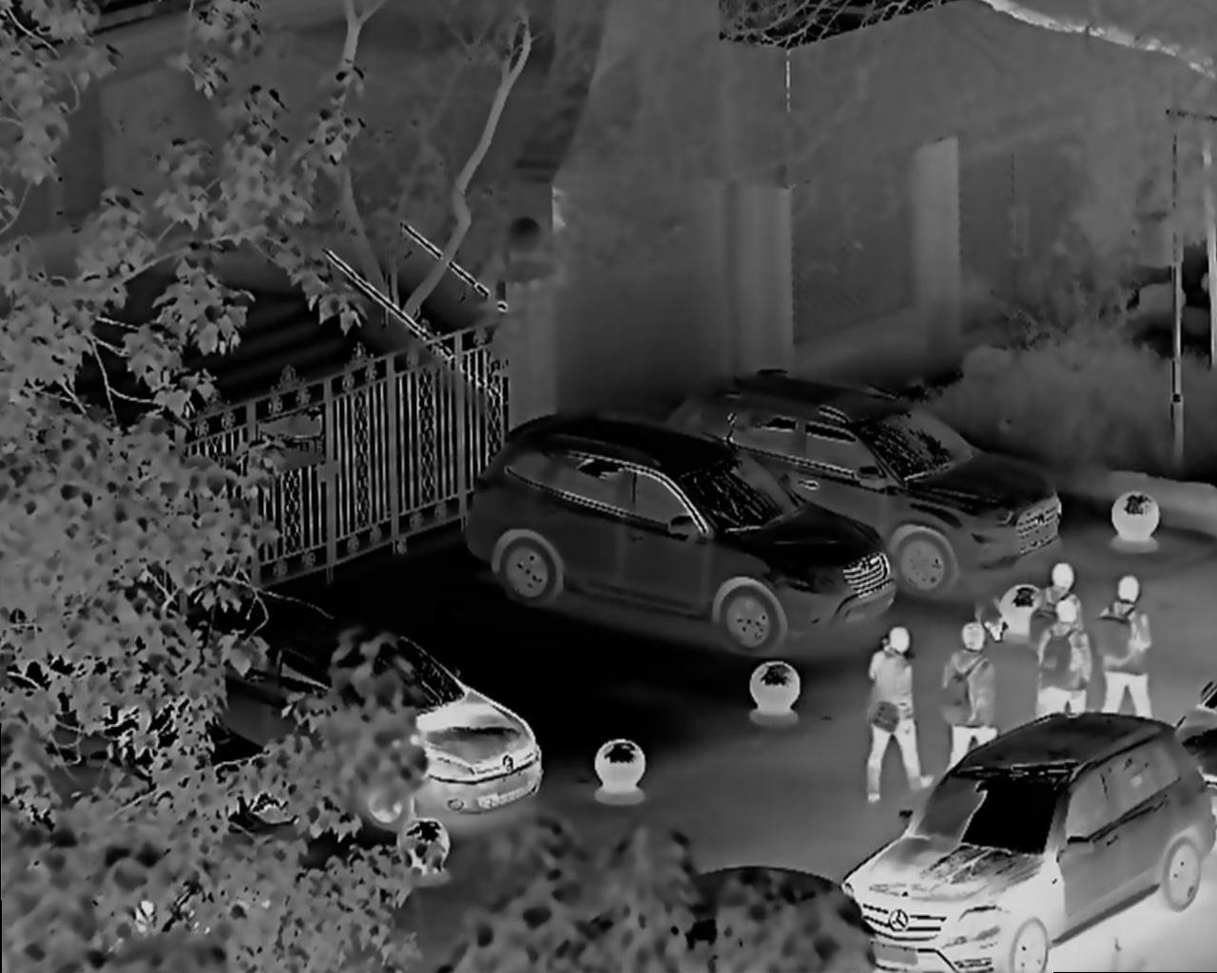person: (863, 619, 929, 783), (1102, 567, 1157, 722), (942, 619, 988, 761), (1054, 604, 1082, 718), (1047, 552, 1075, 613)
